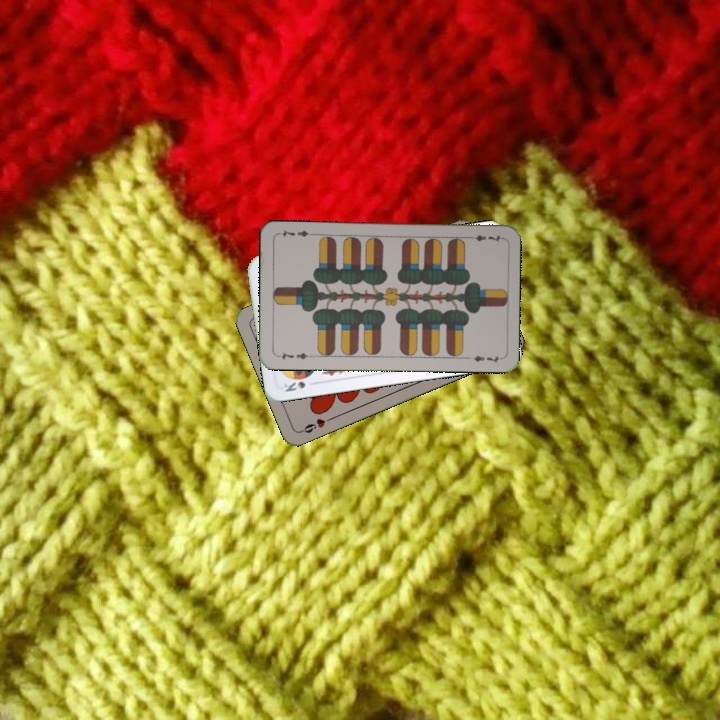E7: (274, 348, 314, 362), (464, 231, 504, 245)
H9: (296, 413, 335, 435)
SK: (280, 377, 308, 394)
